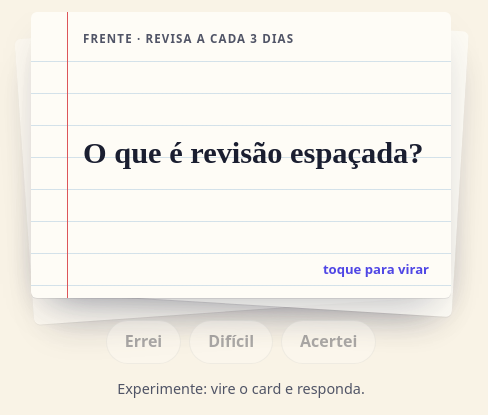
Scenario: DemoDeck › só libera as respostas depois de virar o card
Check: the button "Acertei" is disabled, box [281,320,376,364]
Click the button with aria-label "pergunta: o que é revisão espaçada": click(241, 155) [31,12,451,298]
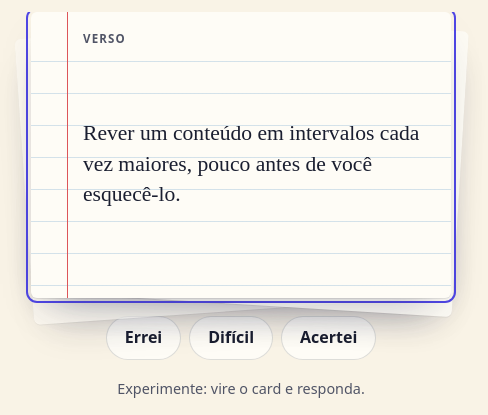
Check: the button "Acertei" is enabled, box [281,316,376,360]
